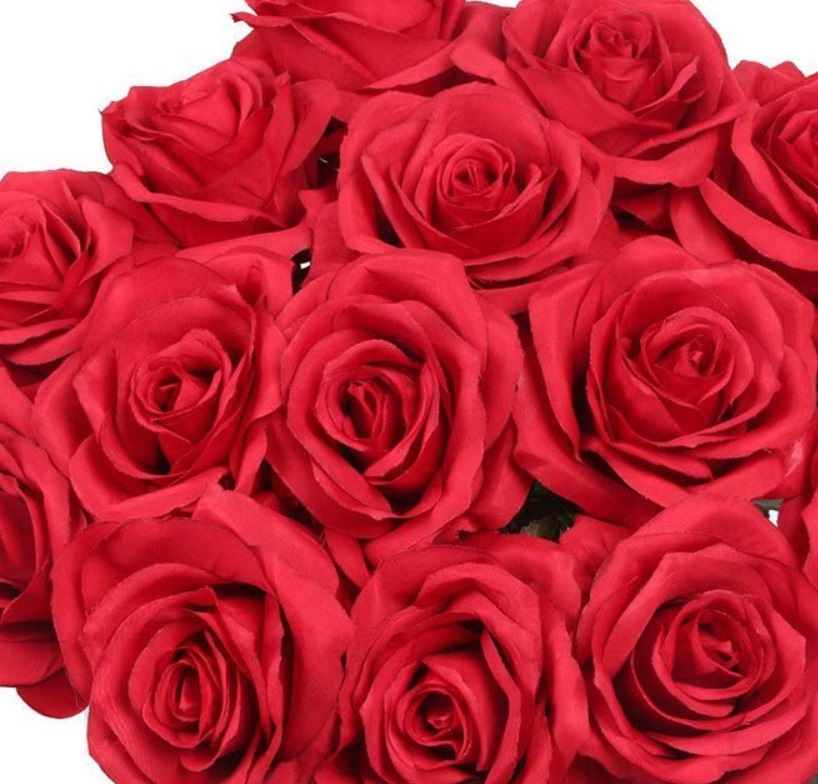Red: (10, 9, 810, 775)
